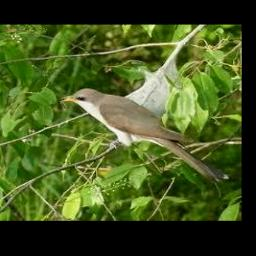Cuckoo: (58, 88, 223, 185)
